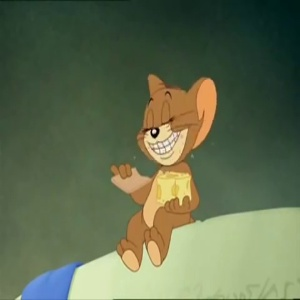Jerry: (135, 60, 222, 164)
